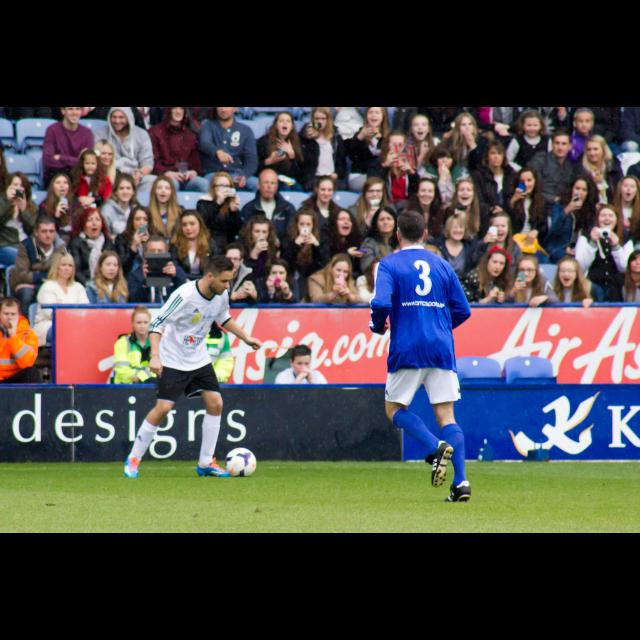Football: (222, 446, 254, 476)
